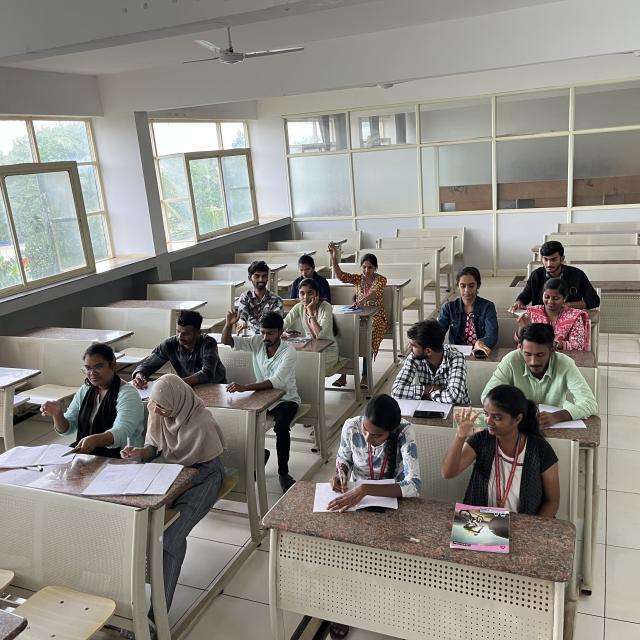Hand Rising: (436, 387, 590, 506), (323, 238, 416, 330), (222, 301, 290, 388), (116, 437, 128, 441)
Reading: (108, 378, 213, 497), (490, 330, 590, 424), (427, 267, 494, 349), (270, 254, 330, 305)
Using Phone: (285, 284, 338, 352)
Writing: (312, 396, 435, 532), (121, 319, 233, 401)
